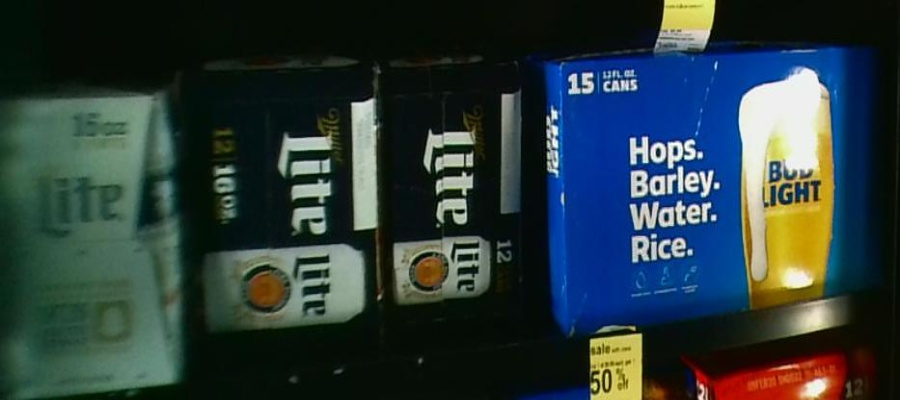bottle: (551, 42, 880, 302), (1, 77, 191, 393), (194, 63, 384, 342), (382, 62, 538, 339)
